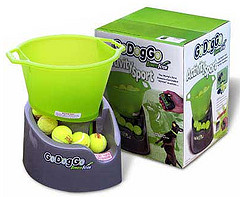tennis ball: (37, 115, 58, 135), (51, 125, 73, 144), (89, 133, 107, 153), (72, 131, 90, 147)
